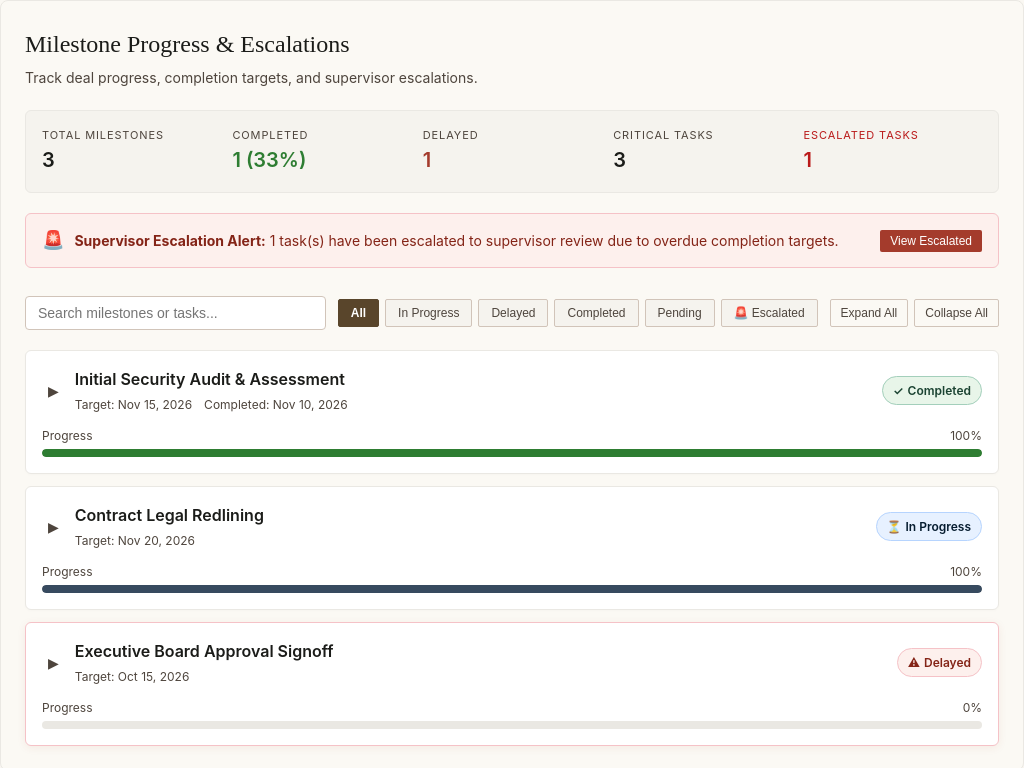
Scenario: MilestoneTracker Component › Filtering and Interaction Controls › filters milestones by status filter tab
Click the button with test id "filter-btn-delayed": point(514, 313) [478,299,548,327]
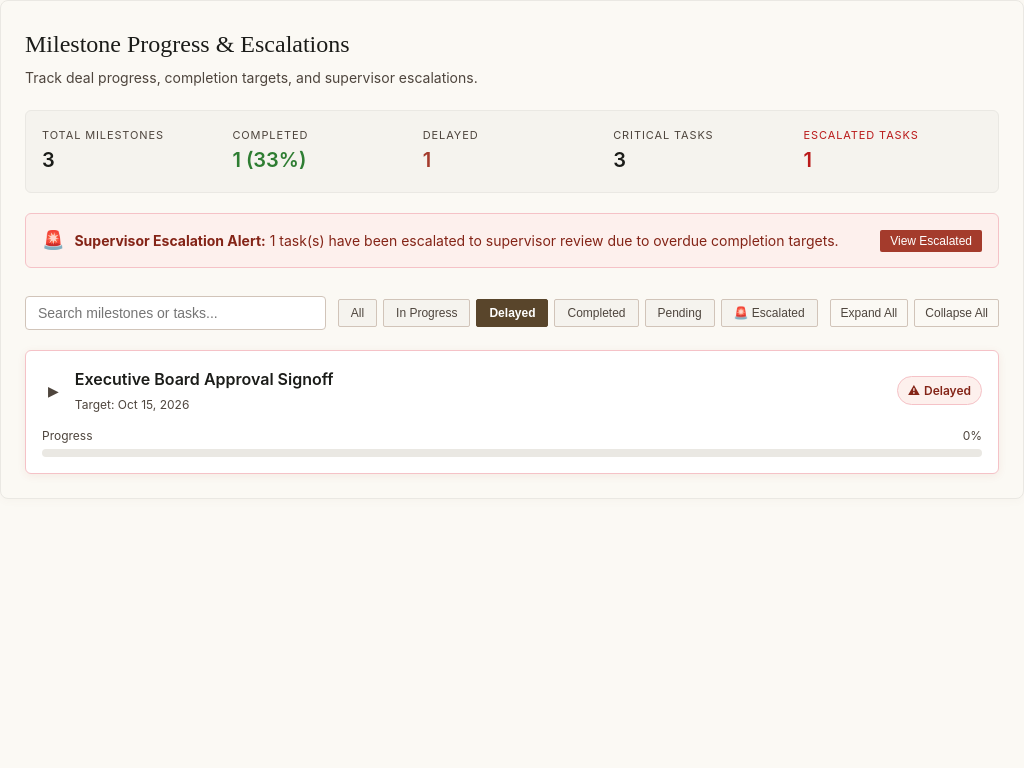
expect the element with test id "milestone-item-ms-3" is shown: met, box [25,350,999,474]
expect the element with test id "milestone-item-ms-1" is gone: met
expect the element with test id "milestone-item-ms-2" is gone: met
